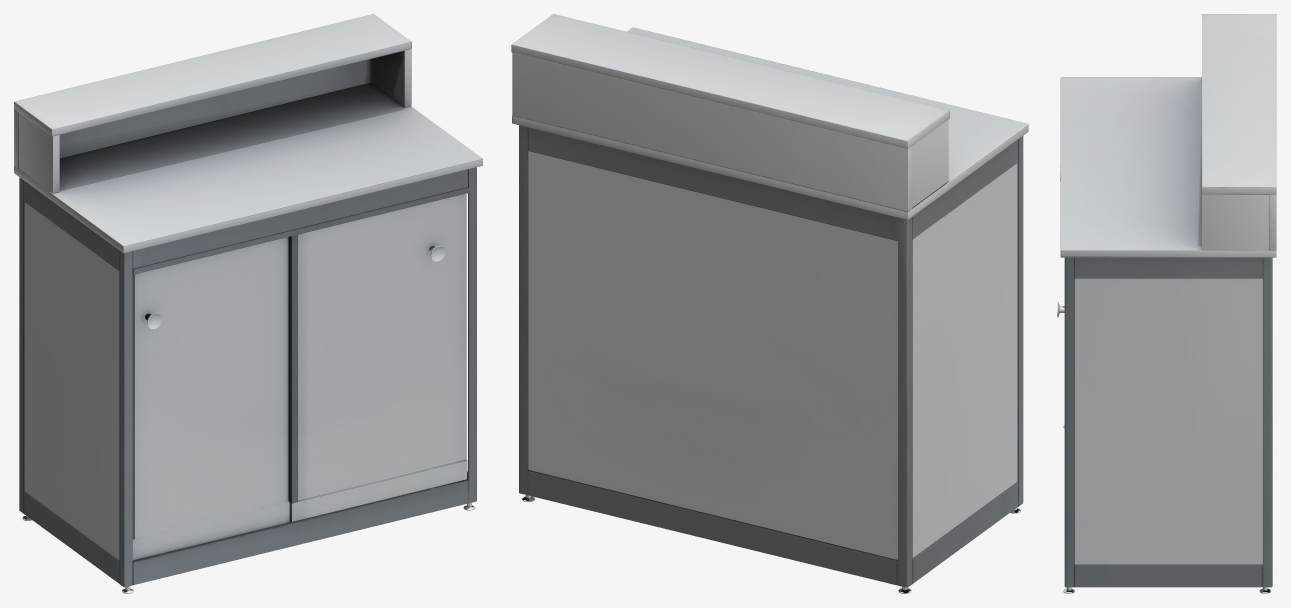
The model's file is bari_mit_aufsatz.glb.
3 views of the same model, side by side, from view 1: azimuth 30°, elevation 25°; view 2: azimuth 150°, elevation 25°; view 3: azimuth 270°, elevation 25° (orthographic). The views are drawn at different scales.
Visible parts, largest first — view 1: bari_mit_aufsatz-white; view 2: bari_mit_aufsatz-white; view 3: bari_mit_aufsatz-white.
Boxes of the visible parts, x1,y1,x2,y2 form: bari_mit_aufsatz-white: (14,14,482,593); bari_mit_aufsatz-white: (511,14,1028,593); bari_mit_aufsatz-white: (1057,14,1276,593).
Bounding box in the file's own units: 1.06 × 1.16 × 0.5652.
Materials: 1 (1 with a texture image).
